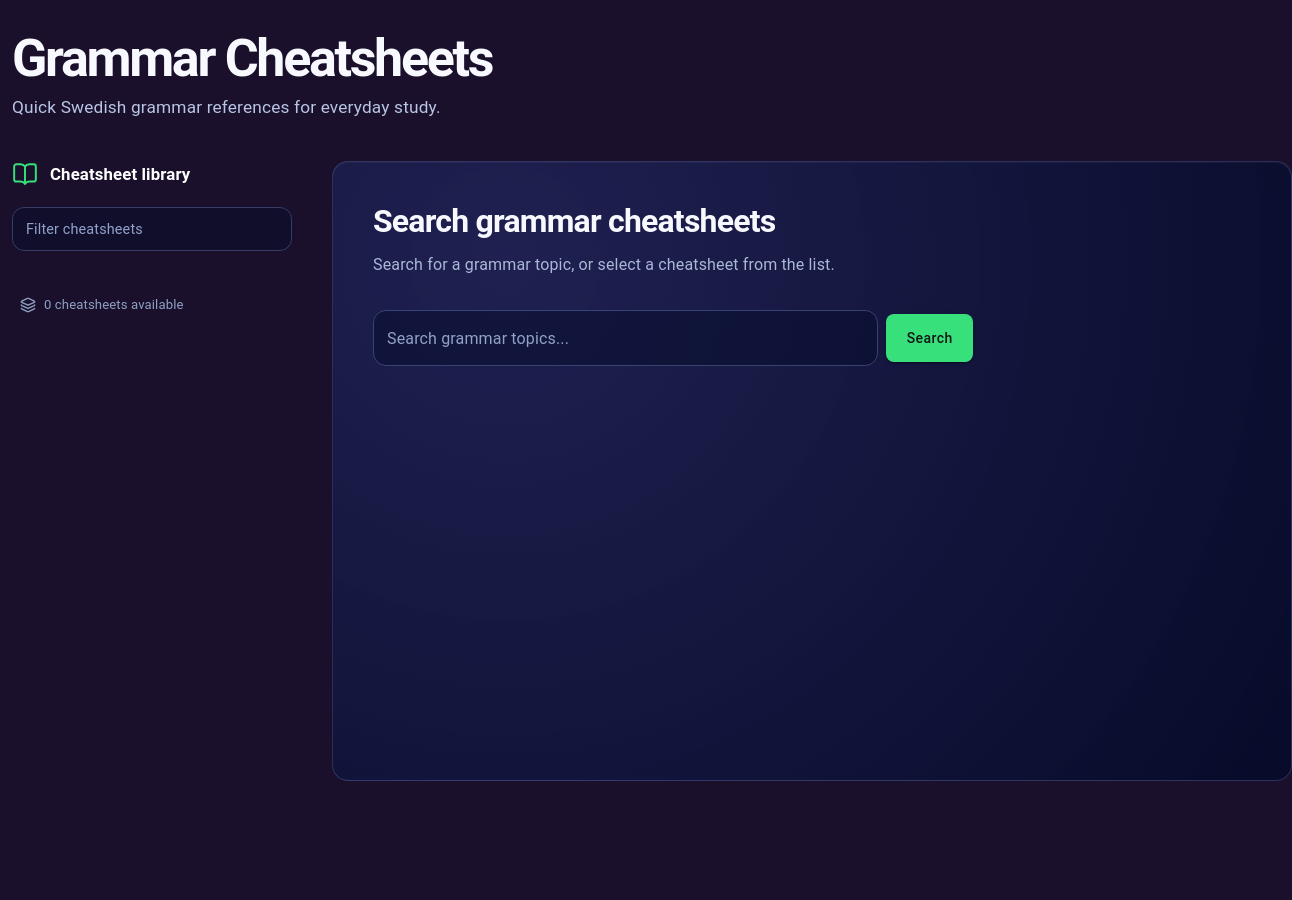
Test: GrammarView › distinguishes the library filter from semantic grammar search
The image size is (1292, 900).
Type "verbs" into the field named "Filter cheatsheet library" at (152, 229), box [12, 210, 292, 249]
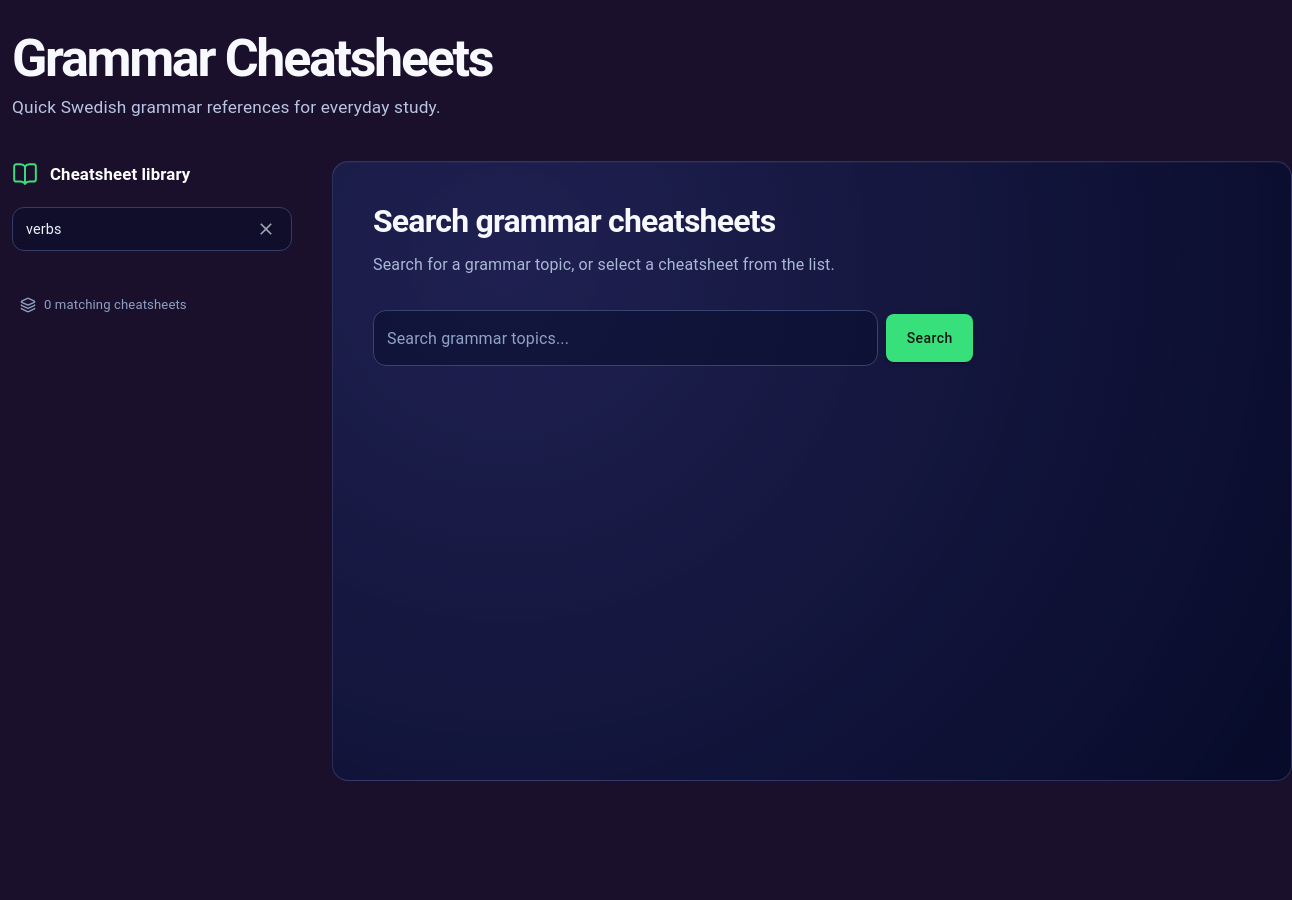
Type "word order" into the field labelled "Search grammar topics" at (626, 338), box [373, 310, 878, 366]
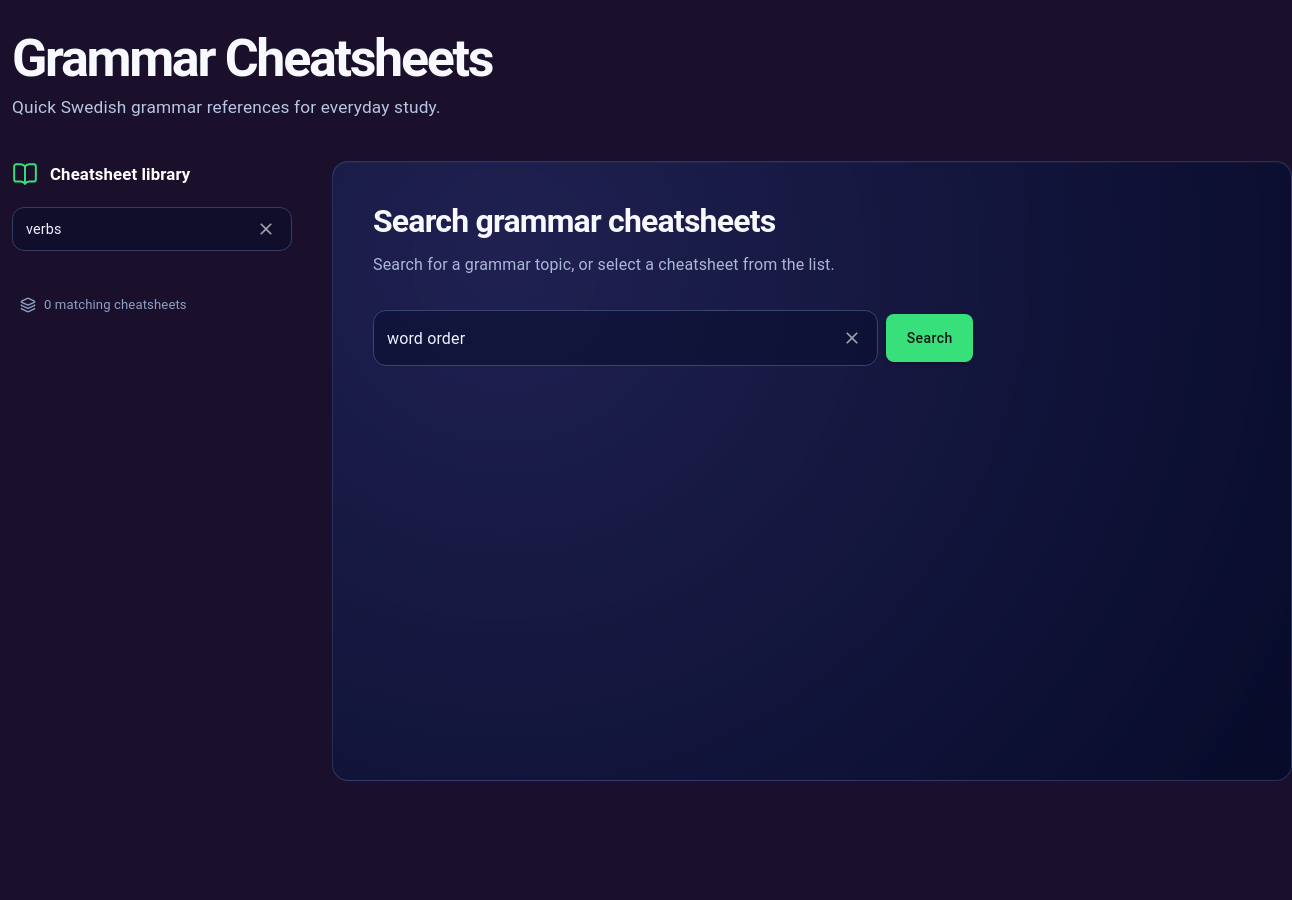
Expected: the button named "Clear cheatsheet filter" is shown, [251, 214, 281, 244]
Expected: the button named "Clear grammar topic search" is shown, [837, 323, 867, 353]
